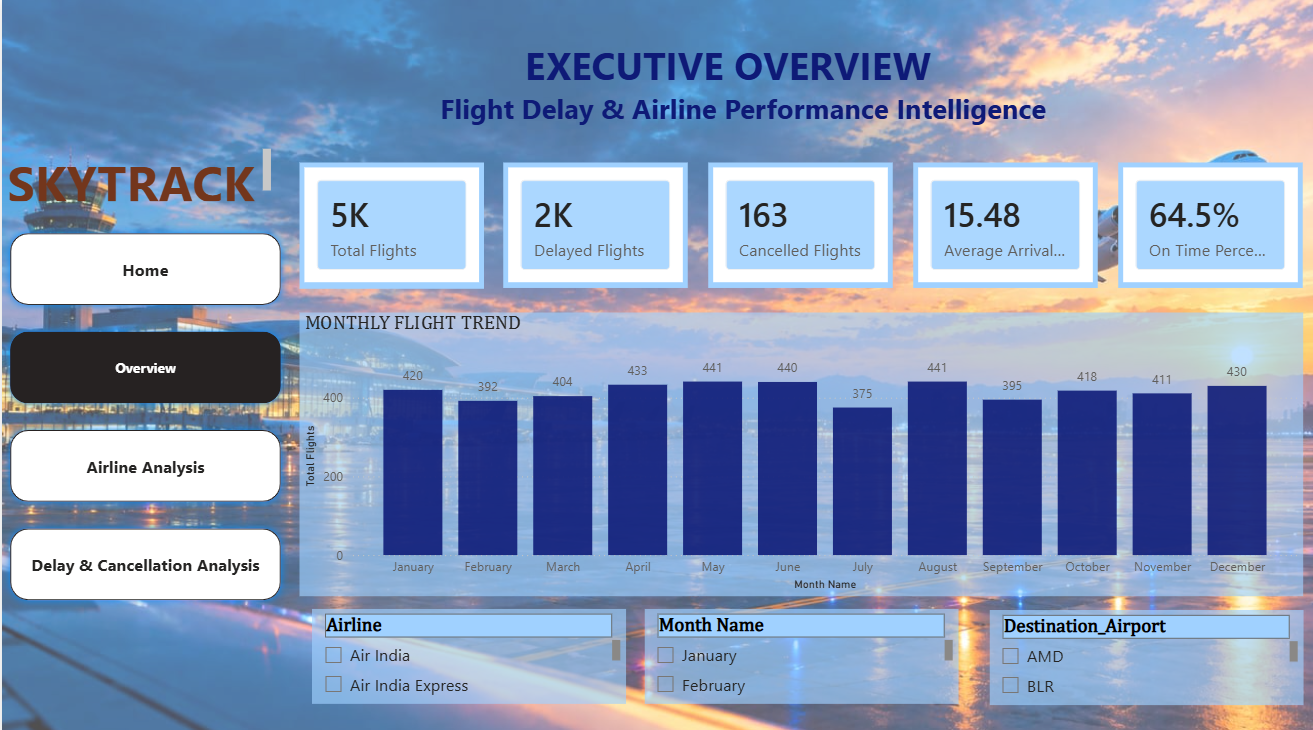

Layout of this report page (visuals, bound fields, positions):
{"tool":"powerbi","page":{"name":"Overview","canvas":[1280,720],"ordinal":1},"visuals":[{"type":"cardVisual","fields":{"Data":["DAX_Measures.Total Flights"]},"box":[290.6,158.8,180,122.9],"z":0},{"type":"cardVisual","title":"Delayed Flights","fields":{"Data":["DAX_Measures.Delayed Flights"]},"box":[489.4,158.8,180,122],"z":1000},{"type":"cardVisual","fields":{"Data":["DAX_Measures.Cancelled Flights"]},"box":[689.4,158.8,180,122],"z":2000},{"type":"cardVisual","fields":{"Data":["DAX_Measures.Average Arrival Delay"]},"box":[889.4,158.8,180,122],"z":3000},{"type":"cardVisual","fields":{"Data":["DAX_Measures.On Time Percentage"]},"box":[1089.4,158.8,180,122],"z":4000},{"type":"clusteredColumnChart","title":"MONTHLY FLIGHT TREND","fields":{"Category":["DateTable.Month Name"],"Y":["DAX_Measures.Total Flights"]},"box":[290.6,304.7,978.8,276.5],"z":5000},{"type":"textbox","box":[381.2,32.9,688.2,107.1],"z":6000},{"type":"pageNavigator","box":[0,220,280,374.1],"z":7000},{"type":"slicer","fields":{"Values":["Flights.Airline"]},"box":[302.4,594.1,306,93],"z":8000},{"type":"slicer","fields":{"Values":["DateTable.Month Name"]},"box":[627.1,594.1,306,93],"z":9000},{"type":"slicer","fields":{"Values":["Flights.Destination_Airport"]},"box":[963.5,595.3,306,92.9],"z":10000},{"type":"textbox","box":[0,140,267.1,61.2],"z":11000}]}

Visuals, with their boxes in screenshot pixels (x1, y1, x2, y2), scaled from the page's 1280x720 canvas onto the 1313x730 screenshot:
cardVisual - DAX_Measures.Total Flights: (298,161,483,286)
"Delayed Flights" cardVisual: (502,161,687,285)
cardVisual - DAX_Measures.Cancelled Flights: (707,161,892,285)
cardVisual - DAX_Measures.Average Arrival Delay: (912,161,1097,285)
cardVisual - DAX_Measures.On Time Percentage: (1117,161,1302,285)
"MONTHLY FLIGHT TREND" clusteredColumnChart: (298,309,1302,589)
textbox: (391,33,1097,142)
pageNavigator: (0,223,287,602)
slicer - Flights.Airline: (310,602,624,697)
slicer - DateTable.Month Name: (643,602,957,697)
slicer - Flights.Destination_Airport: (988,604,1302,698)
textbox: (0,142,274,204)
